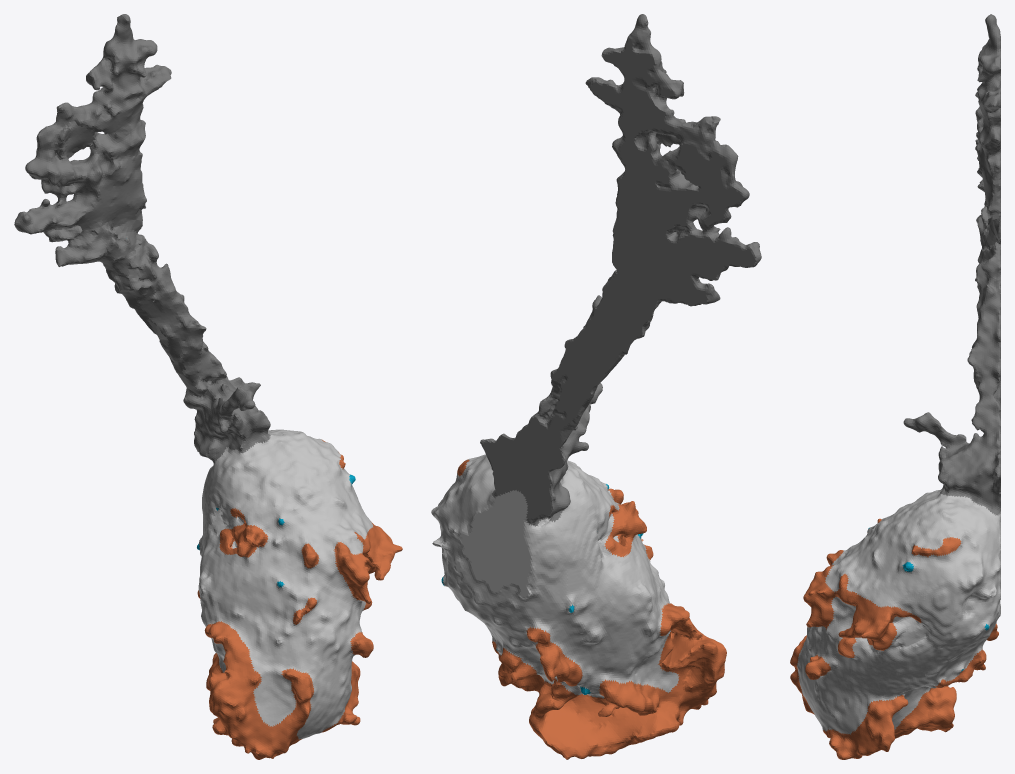
3 renders of one model, left to right at view 1: azimuth 30°, elevation 25°; view 2: azimuth 150°, elevation 25°; view 3: azimuth 270°, elevation 25°, orthographic. The views are drawn at different scales.
Size of the model in its own units: 159 by 335 by 94.11.
